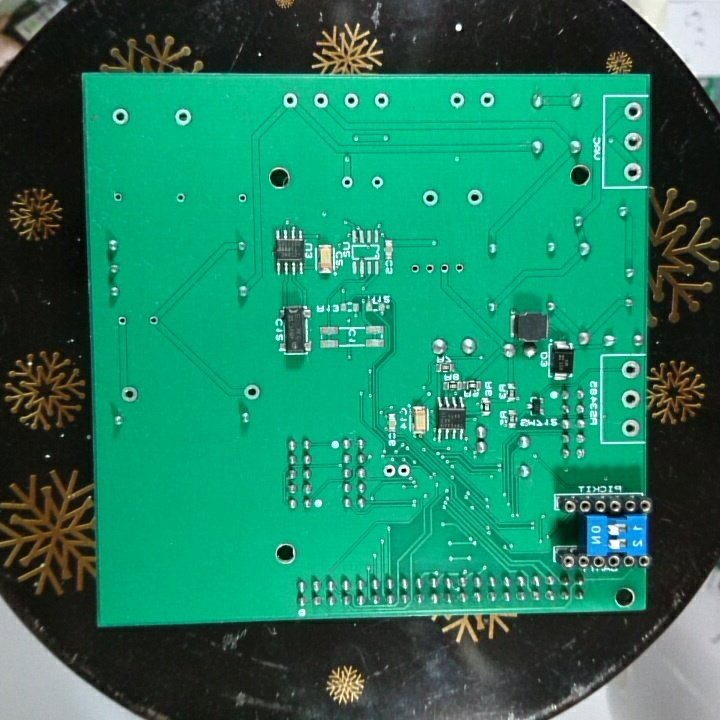F: (619, 386, 642, 412), (171, 104, 194, 130), (621, 128, 644, 154), (118, 382, 142, 406), (621, 100, 645, 124), (619, 359, 642, 383), (463, 186, 486, 209), (240, 382, 264, 404), (280, 89, 302, 113), (371, 89, 391, 115), (619, 417, 641, 440), (342, 89, 362, 114), (622, 158, 642, 183), (419, 187, 441, 209), (109, 106, 132, 127), (448, 89, 469, 112), (311, 90, 331, 113), (478, 90, 498, 112), (338, 172, 355, 193), (368, 172, 385, 191), (379, 463, 397, 480), (422, 259, 437, 279), (452, 260, 467, 278), (397, 461, 411, 480), (437, 261, 452, 278), (173, 189, 188, 206), (146, 313, 161, 329), (408, 260, 422, 277), (234, 189, 248, 206), (114, 312, 128, 328), (111, 189, 125, 205)
